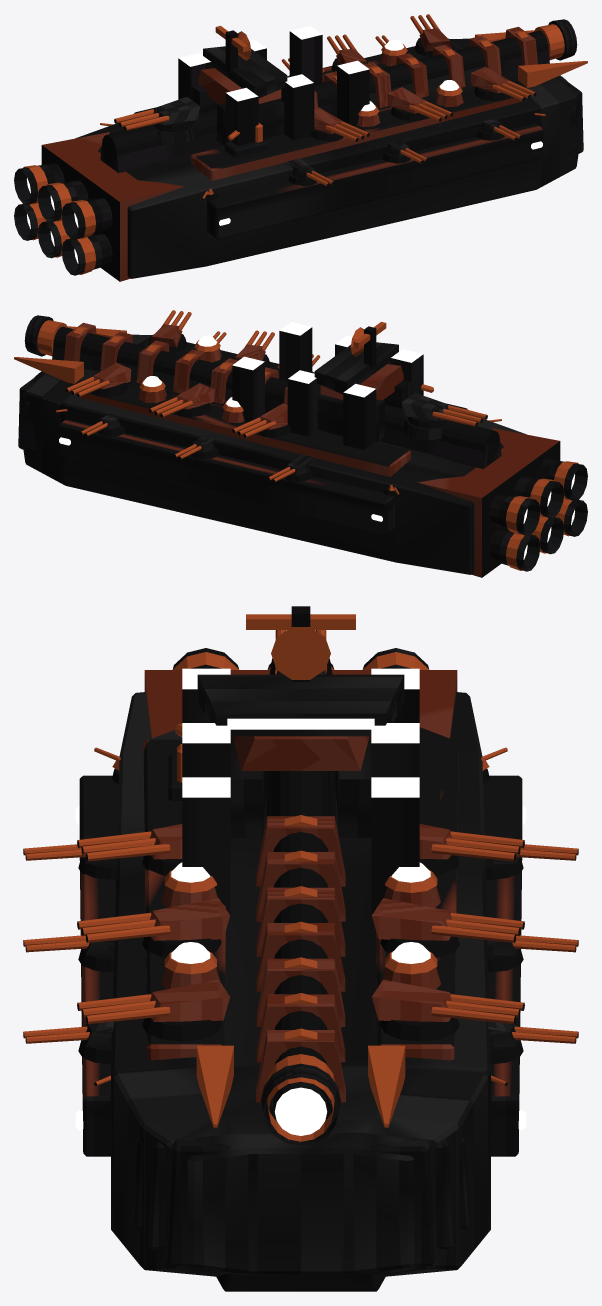
Rendered from battleship.glb.
The picture shows the model from 3 angles, top to bottom: view 1: azimuth 30°, elevation 25°; view 2: azimuth 150°, elevation 25°; view 3: azimuth 270°, elevation 25°; orthographic projection. The views are drawn at different scales.
Visible parts, largest first — view 1: hull_body, weapon_mounts, engine_block, sensor_tower, shield_domes; view 2: hull_body, weapon_mounts, engine_block, sensor_tower, shield_domes; view 3: hull_body, weapon_mounts, sensor_tower, shield_domes, engine_block.
Boxes of the visible parts, x1=… form: hull_body: x1=75, y1=26, x2=587, y2=278; weapon_mounts: x1=100, y1=14, x2=577, y2=199; engine_block: x1=14, y1=132, x2=183, y2=281; sensor_tower: x1=191, y1=25, x2=287, y2=145; shield_domes: x1=322, y1=39, x2=463, y2=126; hull_body: x1=14, y1=322, x2=526, y2=574; weapon_mounts: x1=24, y1=310, x2=501, y2=495; engine_block: x1=418, y1=428, x2=587, y2=577; sensor_tower: x1=314, y1=321, x2=410, y2=442; shield_domes: x1=138, y1=335, x2=279, y2=422; hull_body: x1=75, y1=668, x2=526, y2=1291; weapon_mounts: x1=23, y1=630, x2=578, y2=1146; sensor_tower: x1=197, y1=606, x2=404, y2=837; shield_domes: x1=161, y1=862, x2=440, y2=989; engine_block: x1=144, y1=648, x2=457, y2=738.
Bounding box in the file's own units: 60 × 20.88 × 27.72.
Materials: 1 (1 with a texture image).
